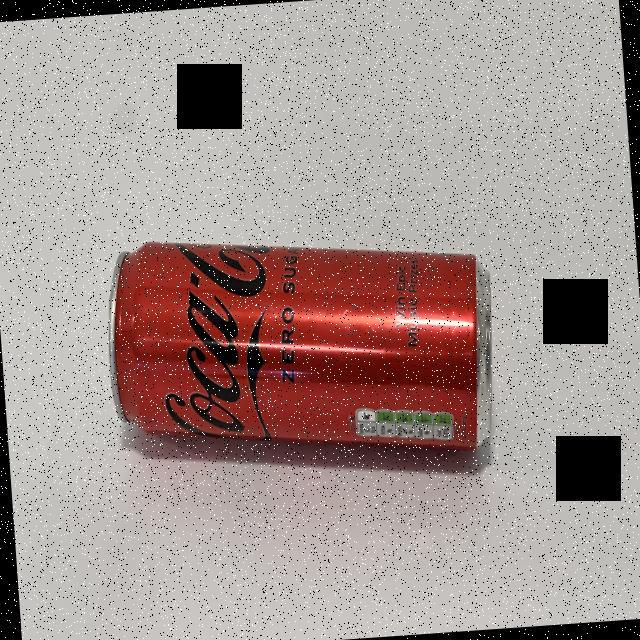debris: (101, 212, 500, 472)
